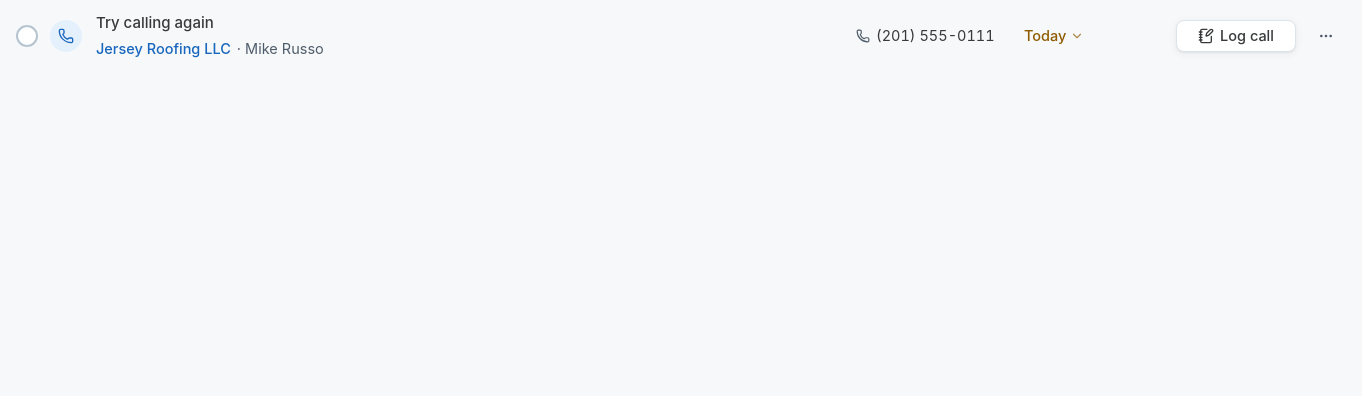
Test: TaskList › reschedules from the due-date menu
This screenshot has width=1362, height=396.
Click the button with aria-label "Due Today. Reschedule": (1054, 36) [1018,22,1090,50]
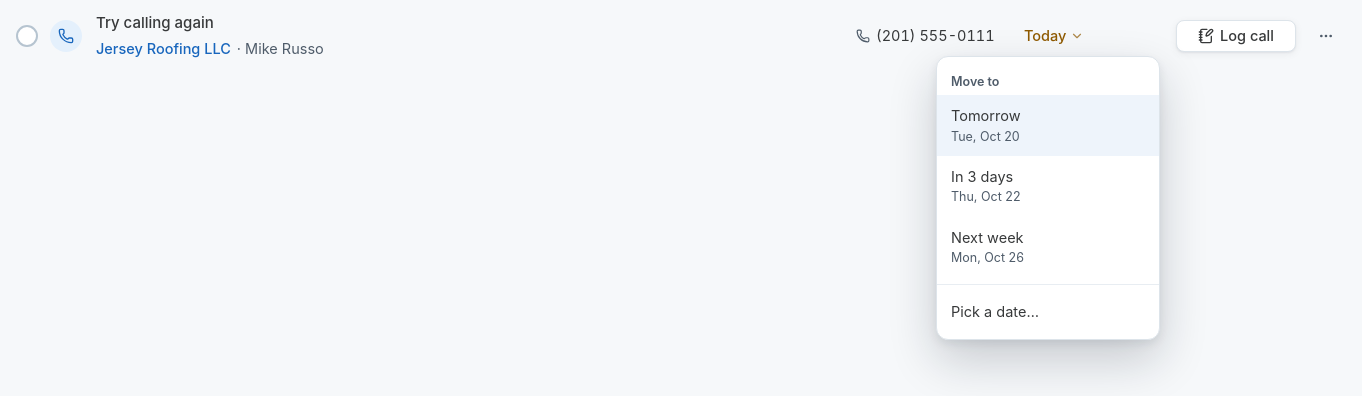
Click the menu item "Tomorrow Tue, Oct 20": (1048, 126) [937,95,1159,156]
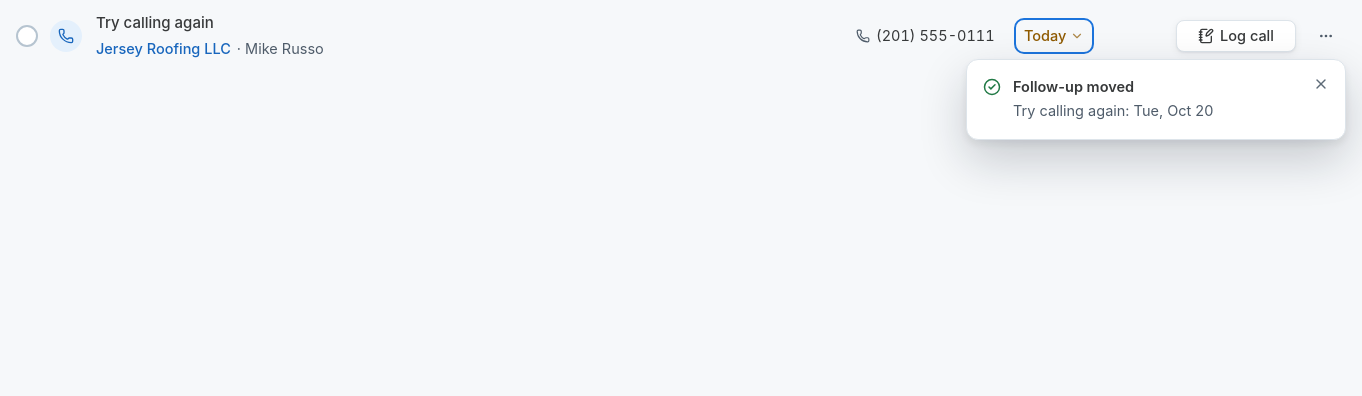
Expected: the text "Follow-up moved" is shown, [1013,78,1134,95]
